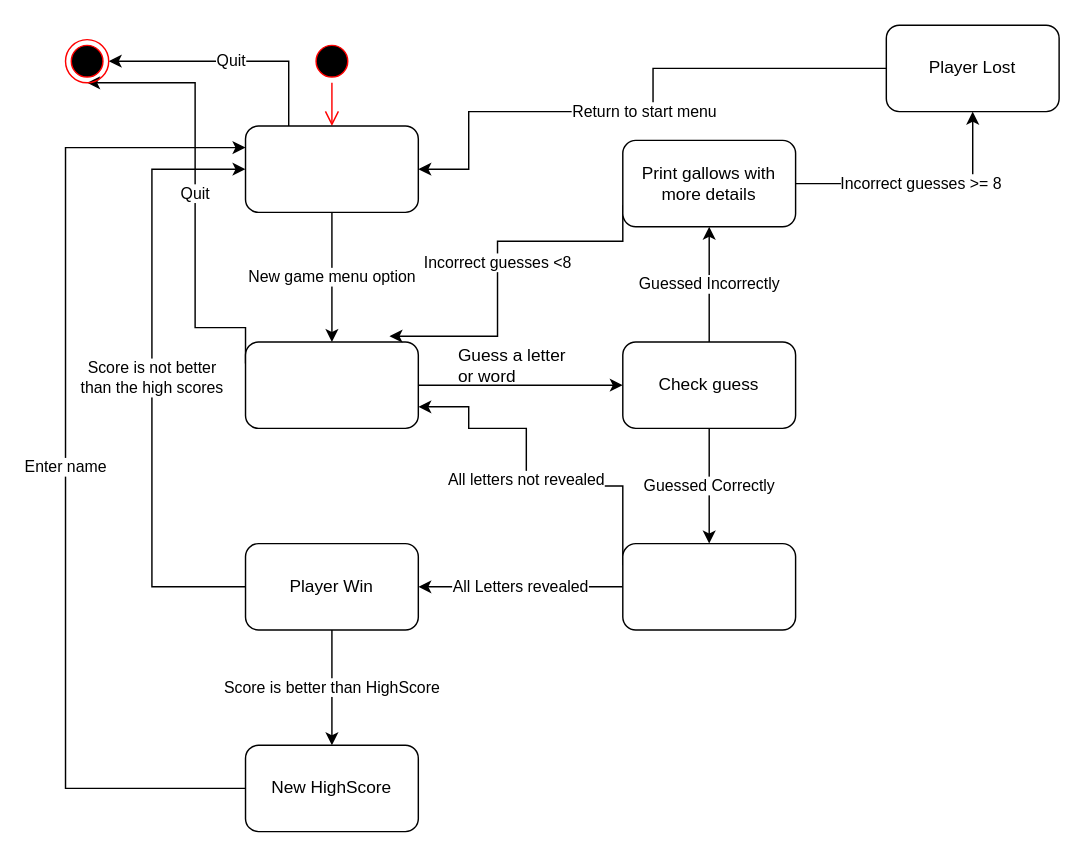
Some shapes in this 1084 by 857 pixel diagram are drawn without their labels. Each missing label, with the box of its shape:
Play Game: (244, 341, 418, 428)
Print Correct letters: (621, 542, 796, 630)
Start Game: (244, 125, 418, 212)
